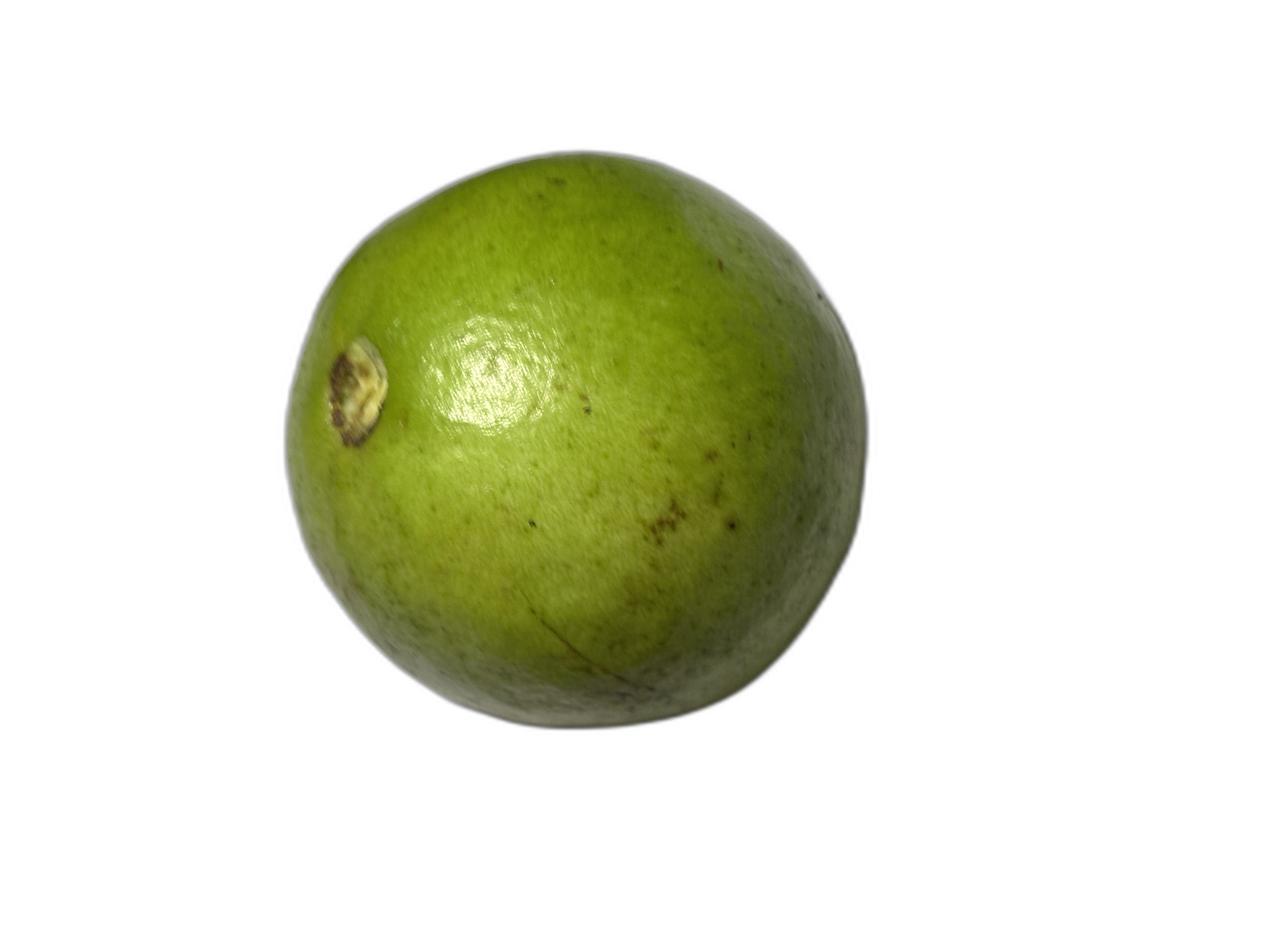guava: (34, 98, 1138, 678)
